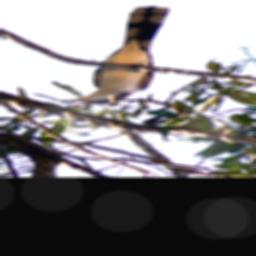Cuckoo: (61, 4, 174, 105)
